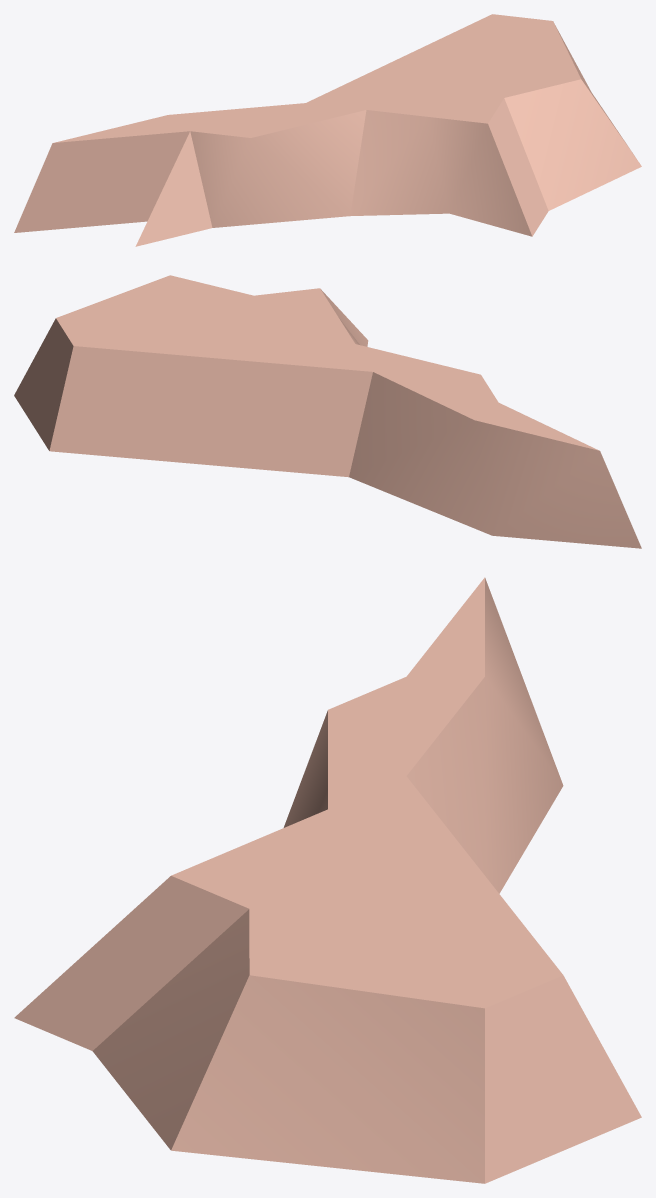
The model's file is gold.gltf.
3 views of the same model, one above another, from view 1: azimuth 30°, elevation 25°; view 2: azimuth 150°, elevation 25°; view 3: azimuth 270°, elevation 25° (orthographic). The views are drawn at different scales.
Visible parts, largest first — view 1: gold; view 2: gold; view 3: gold.
Boxes of the visible parts, x1,y1,x2,y2 form: gold: (14,14,641,246); gold: (14,275,641,548); gold: (14,577,641,1183).
Size of the model in its own units: 0.1401 by 0.0187 by 0.0747.
